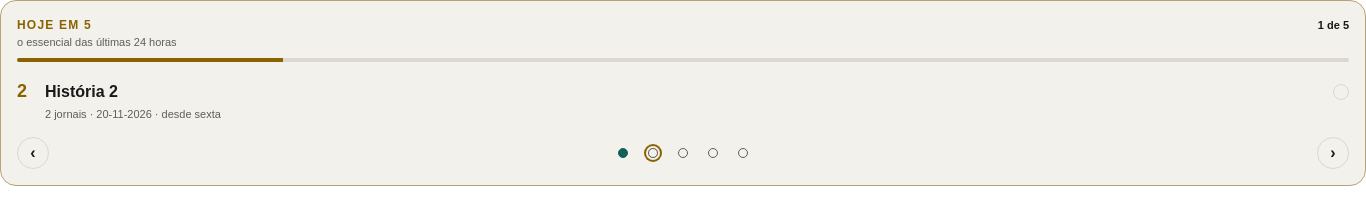
Test: «Hoje em 5», one story at a time › goes back and forth, and says where the reader is and what's read
Later steps or results of the test are not shown.
What coordinates should you click on to do the following:
click the button named "História anterior"
I would click on:
 (33, 152)
Its box is [17,136,49,168].
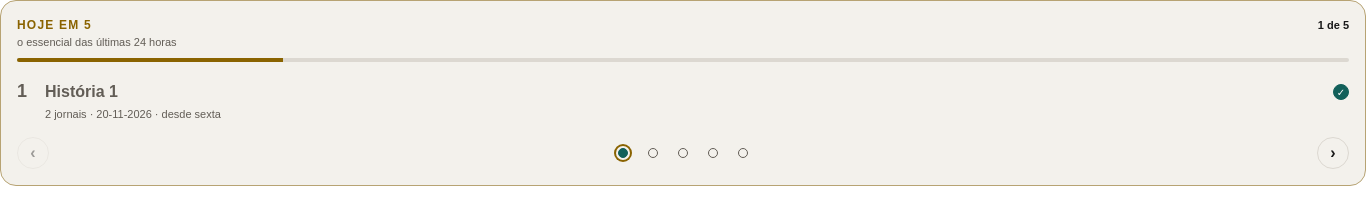
What coordinates should you click on to do the following:
click the button named "História seguinte"
I would click on:
 (1333, 152)
Its box is [1317,136,1349,168].
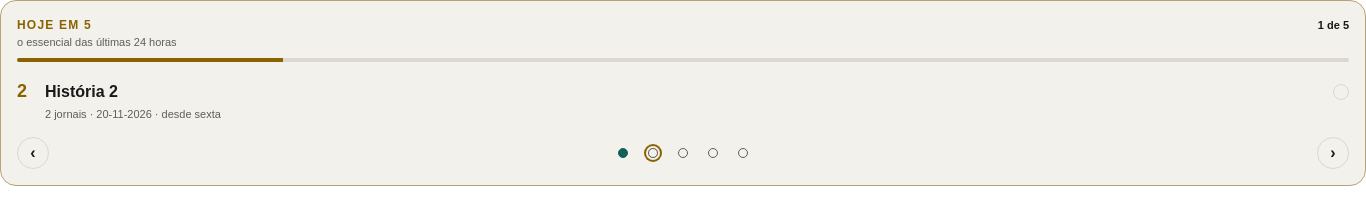
What coordinates should you click on to do the following:
click the button named "História seguinte"
I would click on:
 (1333, 152)
Its box is [1317,136,1349,168].
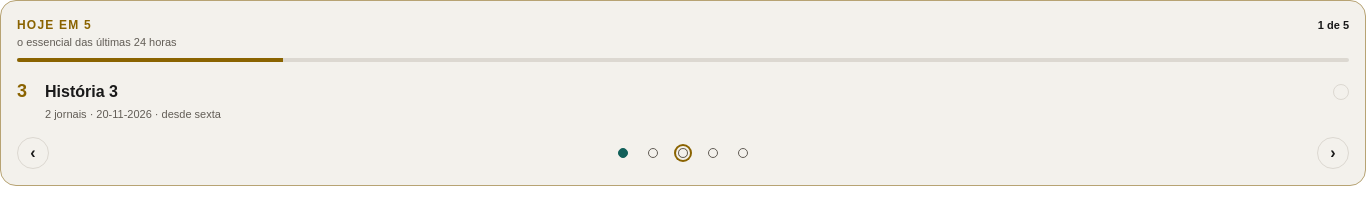
Check: the button named "Ir para a história 1 (lida)" is shown, box [611,140,635,164]
Check: the button named "Ir para a história 3 (por ler)" is marked as current, box [671,140,695,164]
